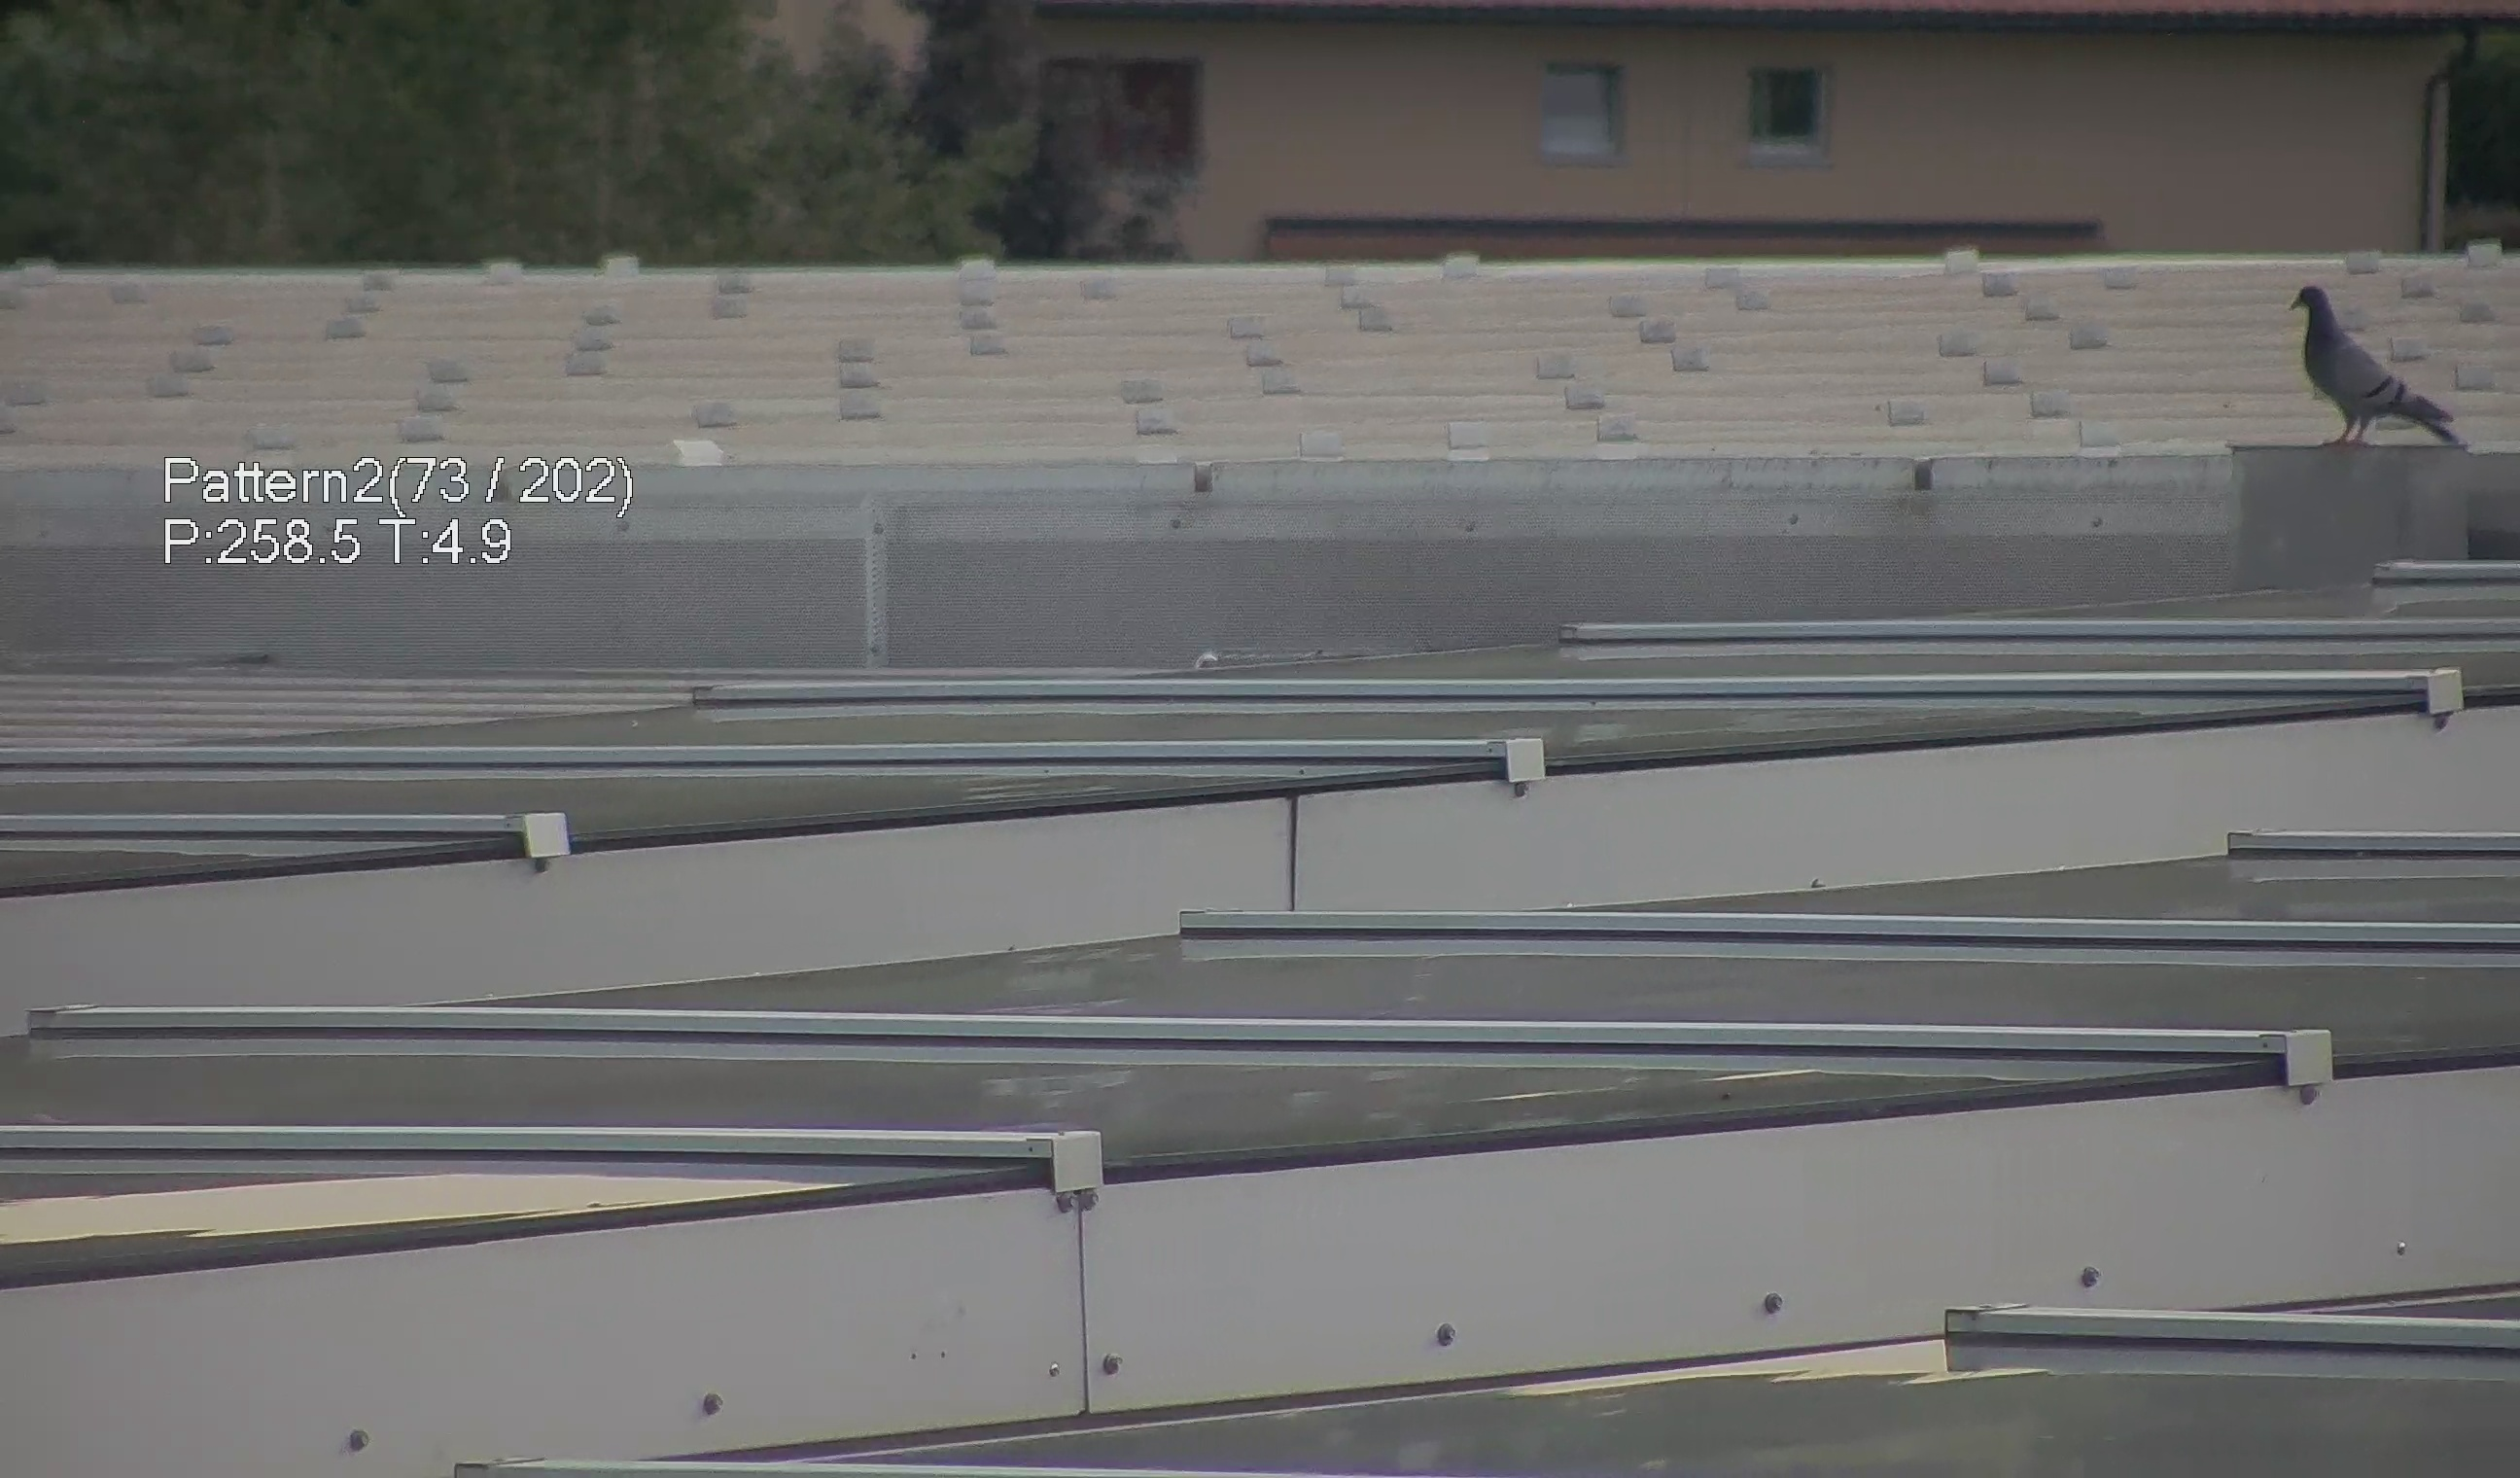Pigeon: (2283, 264, 2480, 459)
